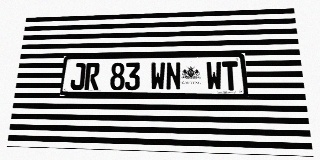3: (125, 62, 140, 90)
8: (110, 63, 125, 90)
J: (70, 63, 86, 90)
N: (166, 62, 181, 90)
R: (84, 63, 100, 90)
T: (222, 61, 239, 91)
W: (206, 61, 223, 90), (150, 62, 165, 90)
